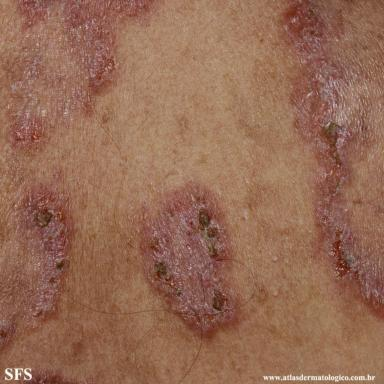Hailey-Hailey-Disease: (0, 0, 154, 350), (281, 1, 384, 312), (142, 185, 235, 336)
